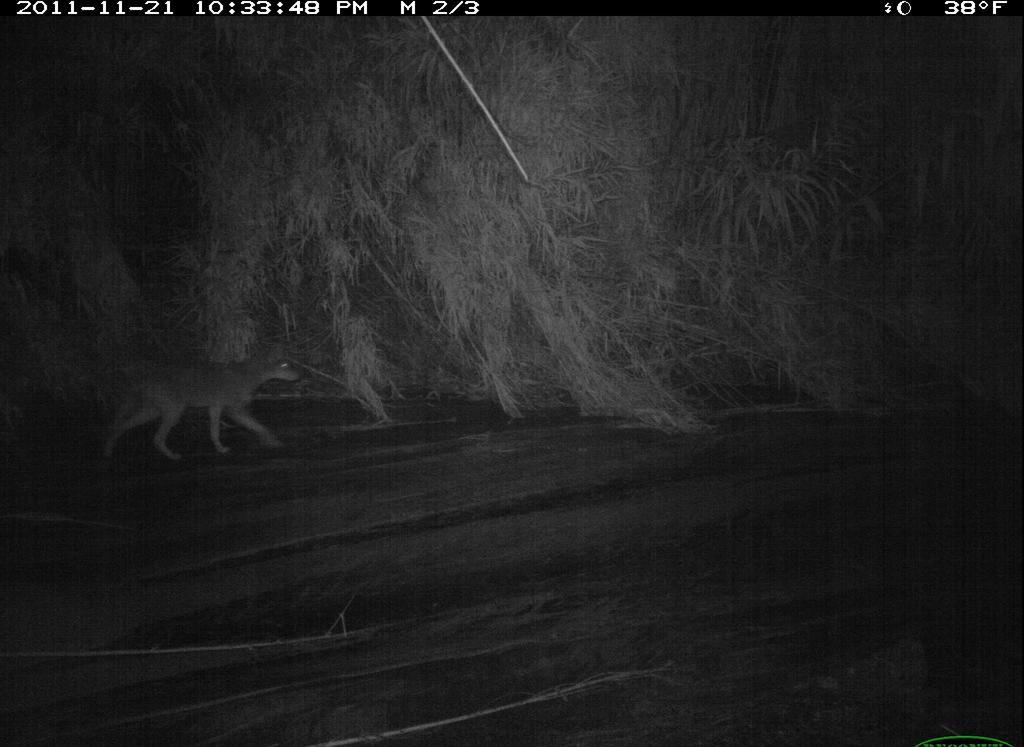coyote: (89, 332, 318, 473)
